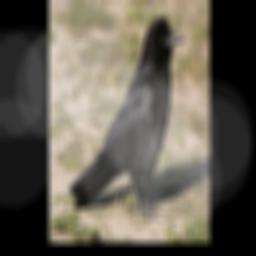Crow: (68, 14, 185, 221)
